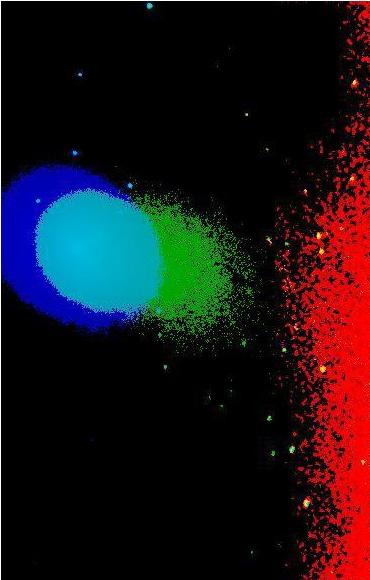star: (192, 382, 222, 412)
